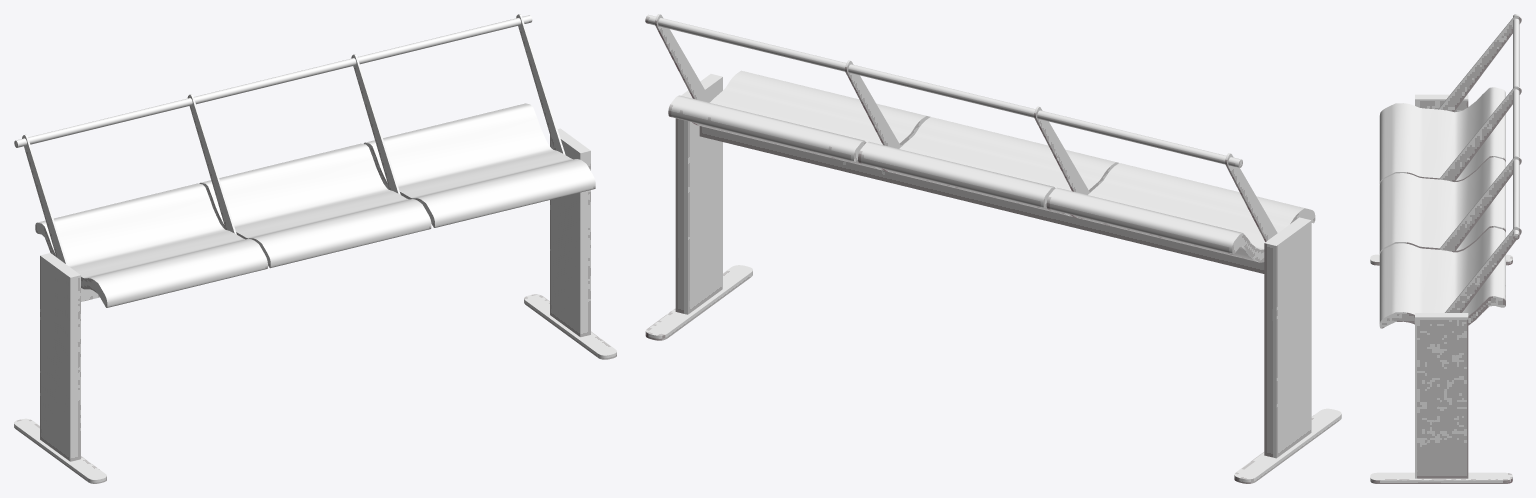
Rendered from bench_station.glb.
The picture shows the model from 3 angles, left to right: view 1: azimuth 30°, elevation 25°; view 2: azimuth 150°, elevation 25°; view 3: azimuth 270°, elevation 25°; orthographic projection. The views are drawn at different scales.
Parts seen in each view (by area): view 1: mesh; view 2: mesh; view 3: mesh.
Part boxes in pixels (x1,y1,x2,y2): mesh: (14, 14, 616, 483); mesh: (645, 14, 1341, 483); mesh: (1370, 14, 1521, 483).
Bounding box in the file's own units: 1.55 × 0.8 × 0.4384.
1 material, 1 textured.
